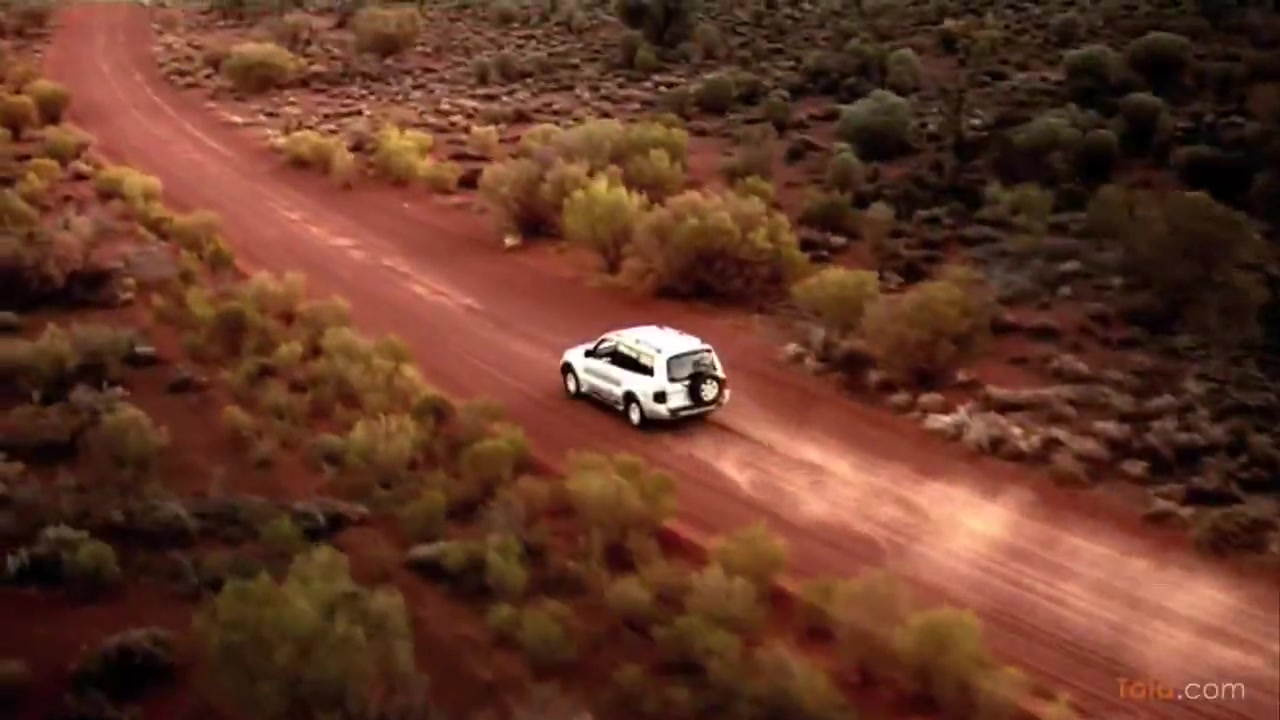car: (561, 320, 733, 437)
